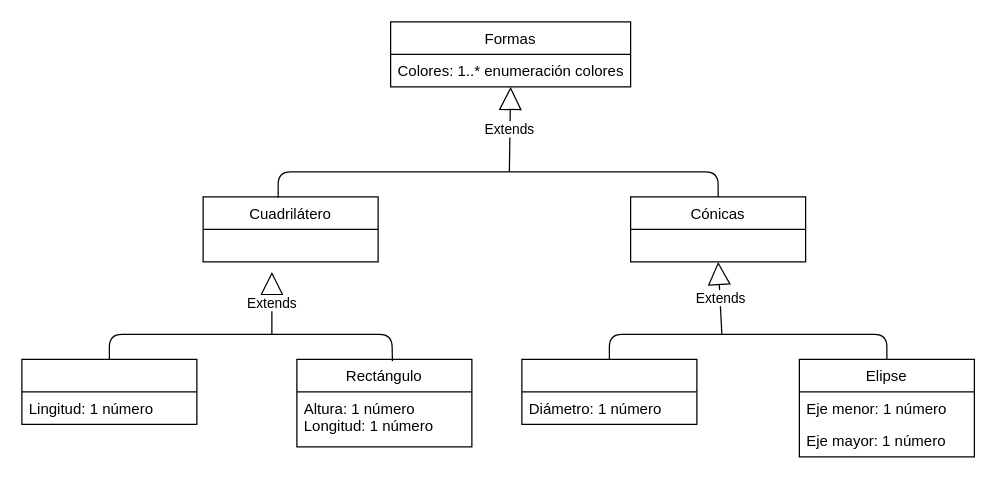
Some shapes in this 996 by 483 pixel diagram are drawn without their labels. Each missing label, with the box of its shape:
Cuadrado: (21, 358, 197, 424)
Círculo: (521, 358, 697, 424)
